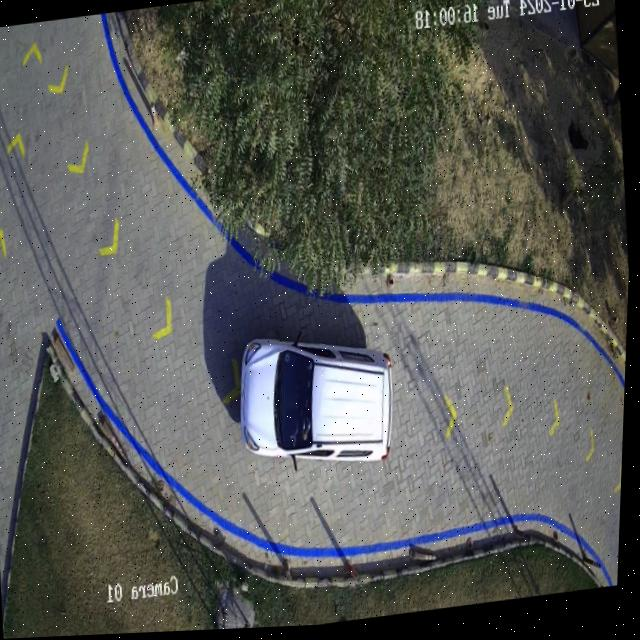car: (244, 341, 395, 465)
